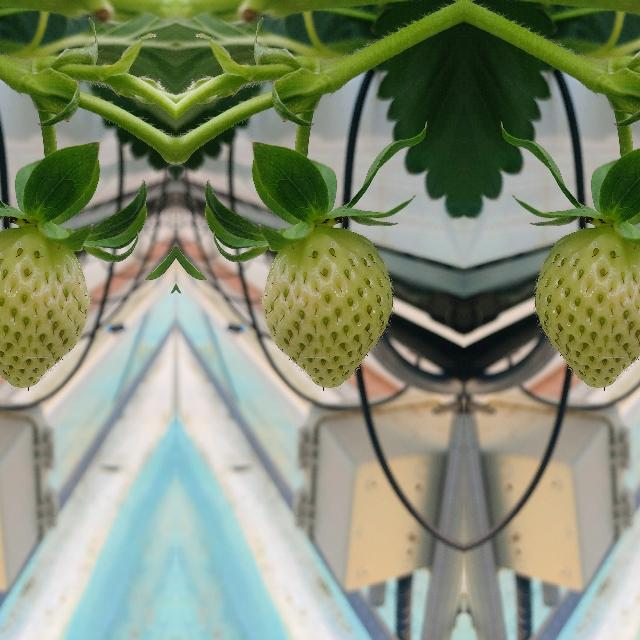Health_25: (258, 226, 394, 390), (532, 226, 640, 390), (0, 226, 91, 390)
